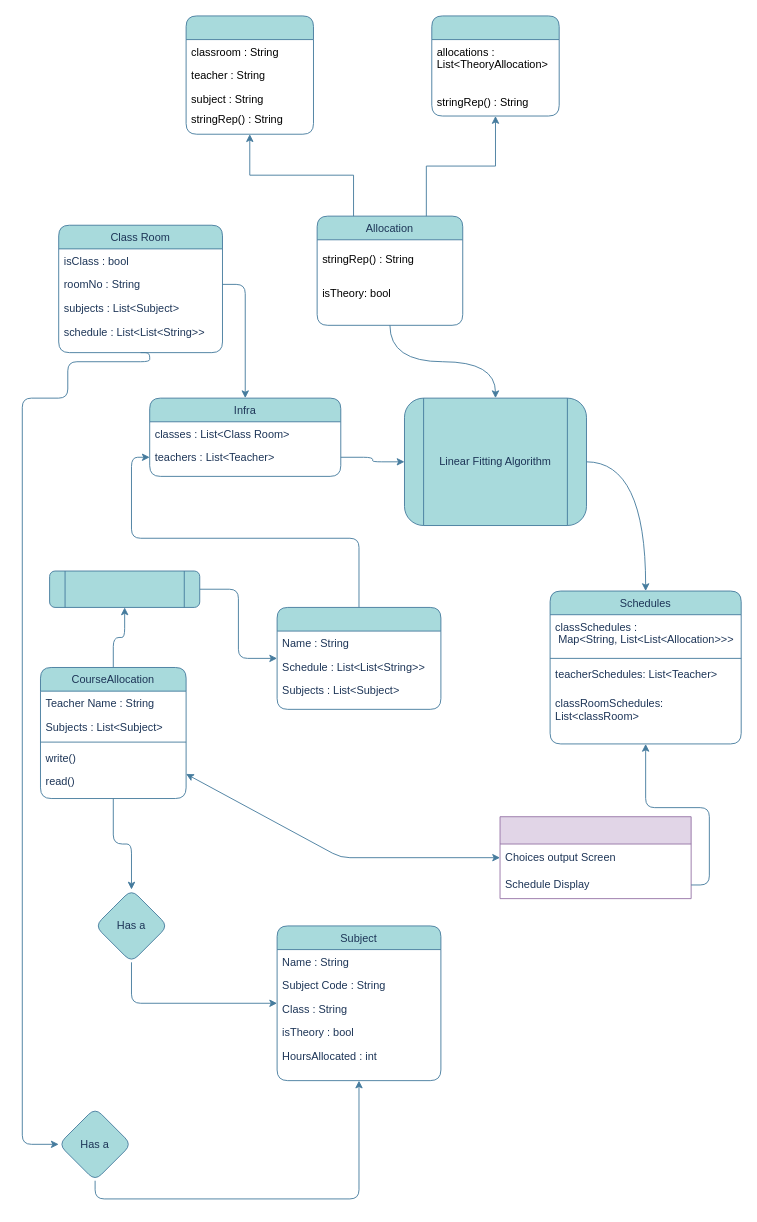
The diagram is 757 pixels wide and 1222 high, and some of its shapes have lost their labels. Here are the shapes that lost their labels. From the top down, the box of each, then its label:
(185, 15, 313, 134): TheoryAllocation
(431, 15, 559, 116): LabAllocation
(49, 570, 200, 607): Assigns a subject to
(276, 607, 441, 709): Teacher
(499, 816, 691, 899): User Interface
